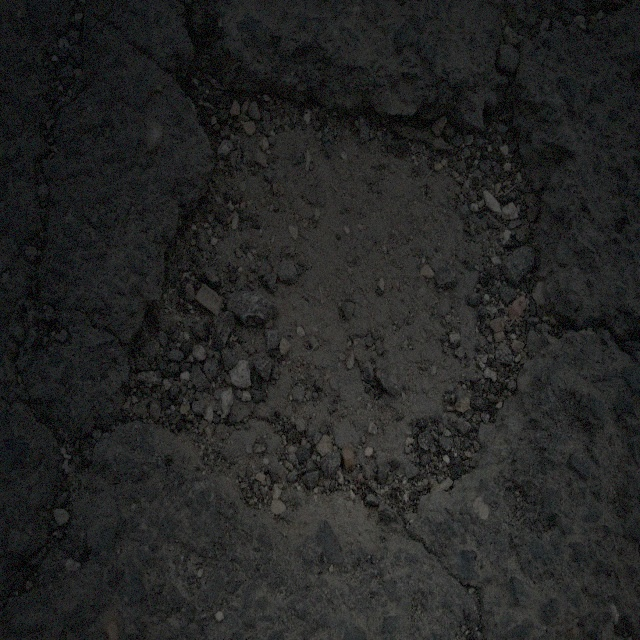pothole: (121, 49, 553, 548)
